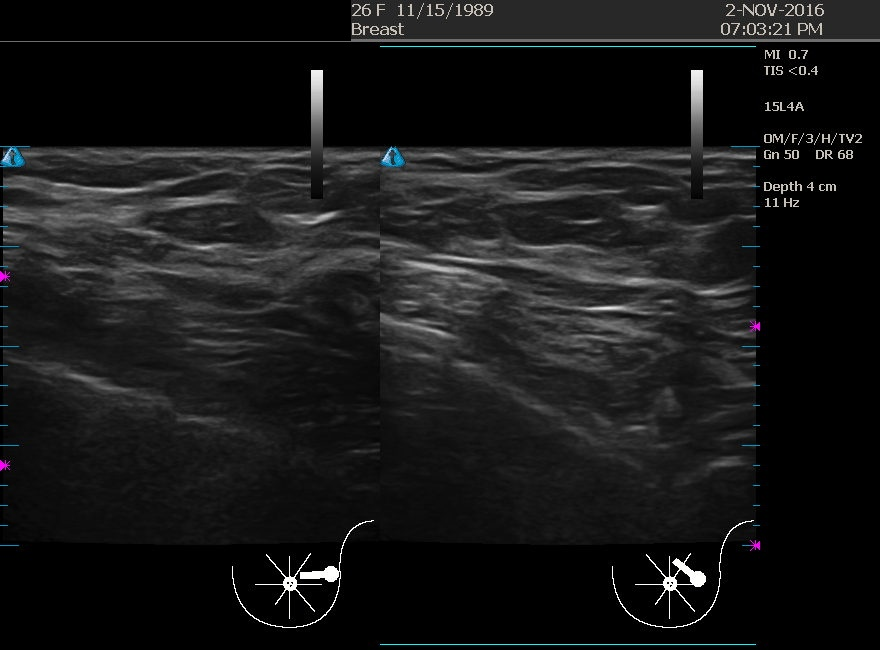BIRADS_3: (102, 185, 302, 385), (468, 153, 668, 353)
